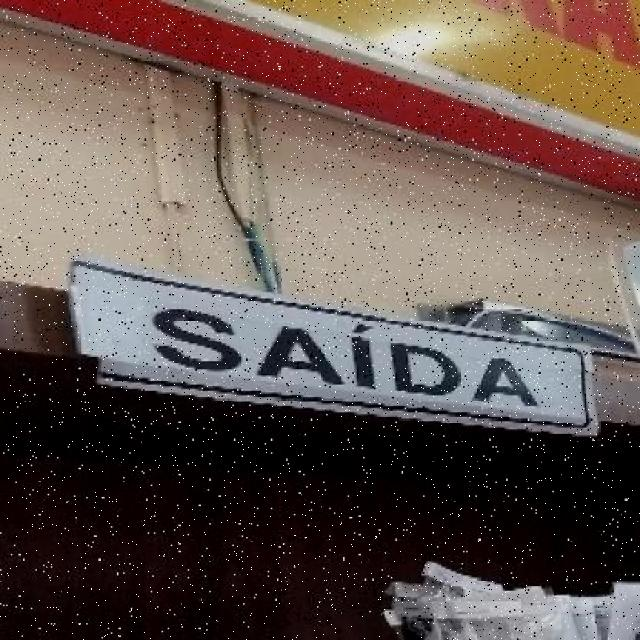emergency_exit: (66, 258, 601, 437)
